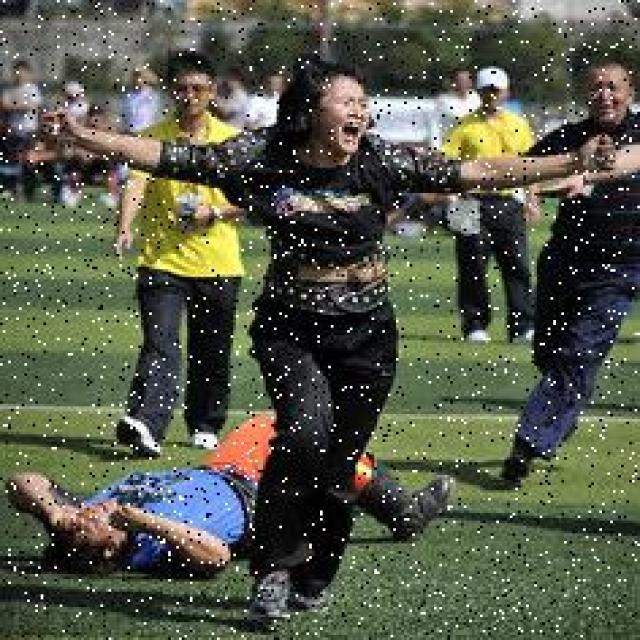fall: (16, 412, 456, 568)
